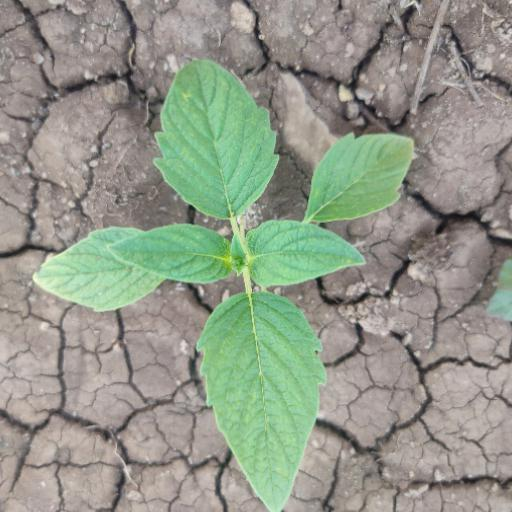crop: (32, 66, 417, 512)
